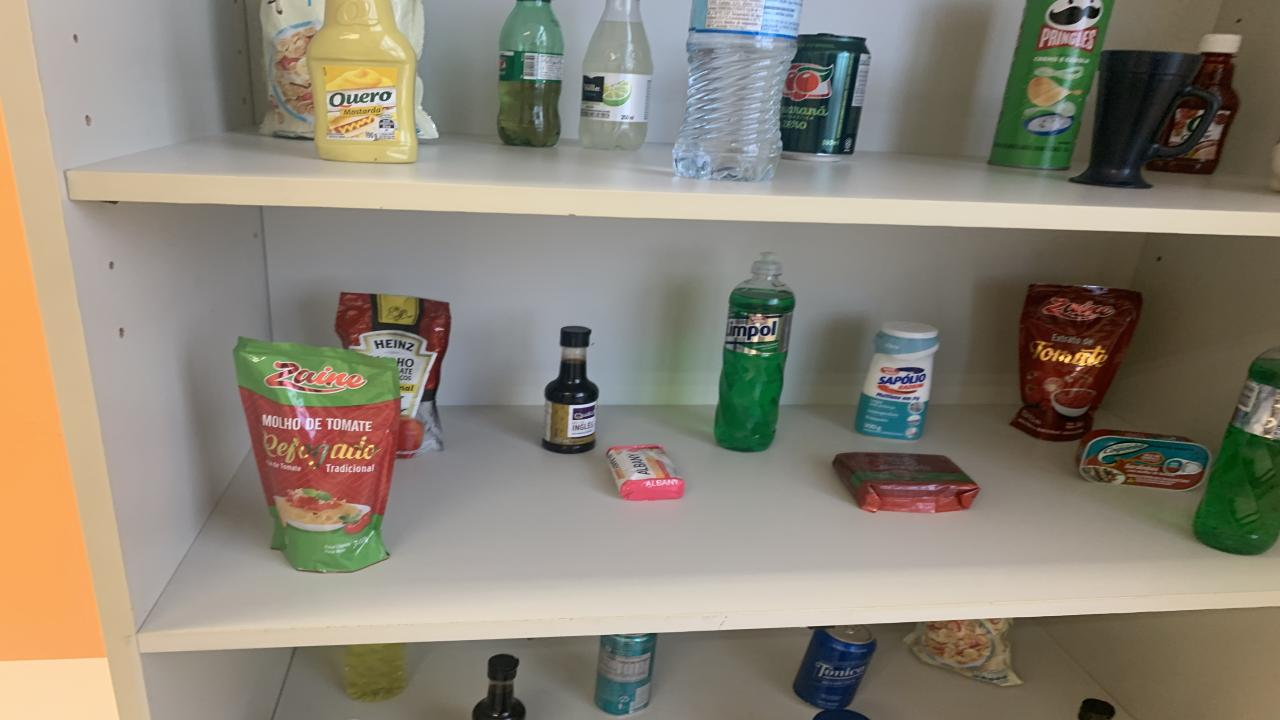Cleaner-Cleanup_Items: (855, 321, 938, 441)
Detergent-Cleanup_Items: (1192, 347, 1280, 555), (715, 253, 795, 452), (345, 643, 405, 701)
English_Sauce-Pantry_Items: (542, 326, 598, 454), (472, 654, 525, 720), (1078, 698, 1115, 720)
Flakes-Snacks: (260, 0, 325, 139), (905, 619, 1022, 686), (392, 0, 425, 58), (415, 77, 438, 139)
Guarana-Drinks: (498, 0, 565, 146)
Guarana_Can-Drinks: (780, 34, 870, 159)
Guava-Snacks: (832, 452, 980, 514)
Ketchup-Pantry_Items: (1148, 34, 1240, 174), (1160, 98, 1208, 146)
Mustard-Pantry_Items: (308, 0, 418, 163)
Pringles-Snacks: (990, 0, 1115, 171)
Soap-Cleanup_Items: (605, 444, 685, 501)
Soda-Drinks: (580, 0, 652, 150)
Tea-Drinks: (595, 634, 658, 714)
Tomato_Sauce-Pantry_Items: (232, 338, 400, 572), (1010, 285, 1142, 441), (335, 292, 450, 458)
Tonic-Drinks: (792, 624, 875, 709)
Tuna_Can-Pantry_Items: (1078, 429, 1210, 489)
Water_Bottle-Drinks: (672, 0, 802, 182)
